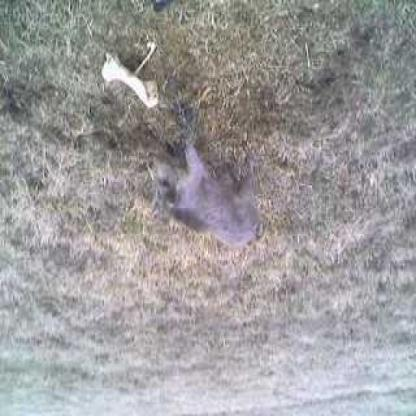boar: (150, 120, 298, 260)
